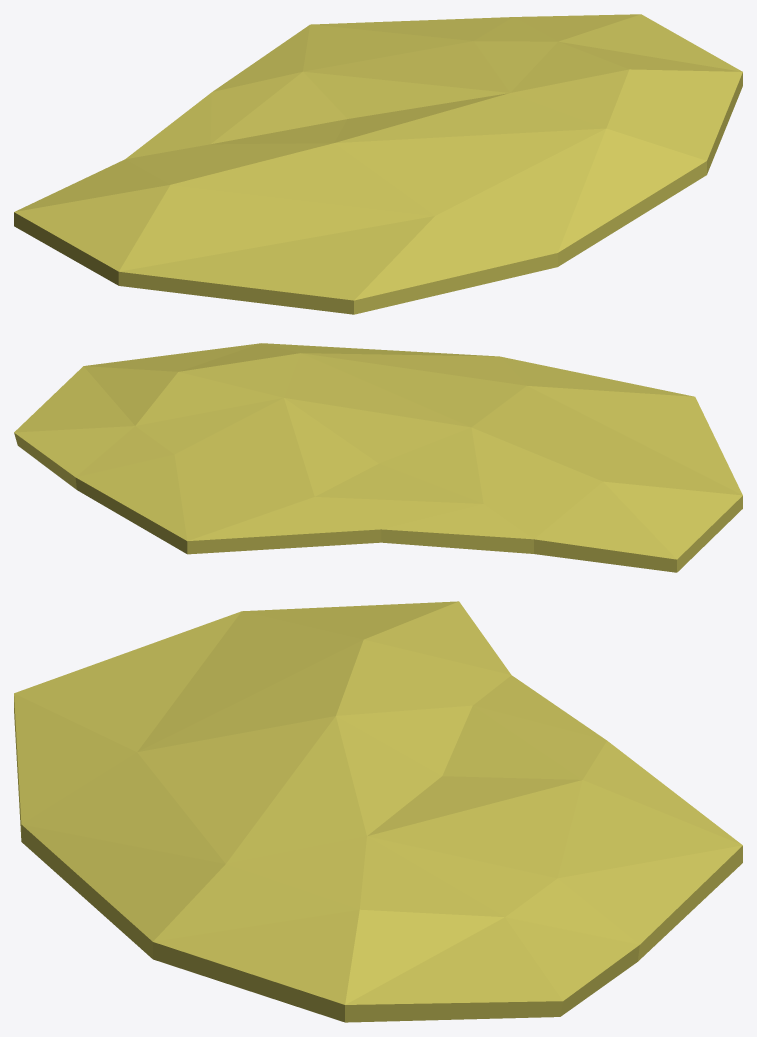
File: ground hay.fbx
3 views of the same model, one above another, from view 1: azimuth 30°, elevation 25°; view 2: azimuth 150°, elevation 25°; view 3: azimuth 270°, elevation 25° (orthographic). The views are drawn at different scales.
Visible parts, largest first — view 1: Circle; view 2: Circle; view 3: Circle.
Part boxes in pixels (box(x1,y1,x2,y2)): Circle: box(14, 14, 742, 314); Circle: box(14, 343, 742, 572); Circle: box(14, 601, 742, 1022).
Size of the model in its own units: 519 by 39.66 by 388.
